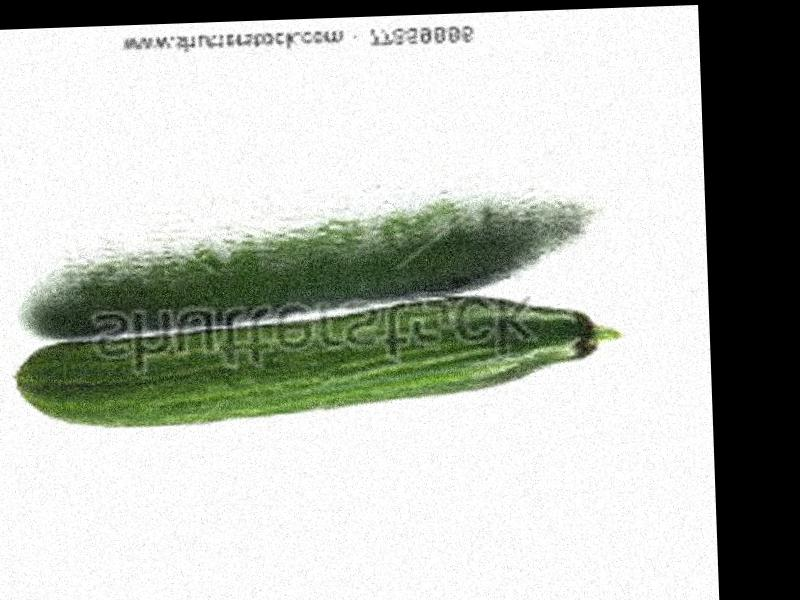Cucumber: (18, 290, 621, 433)
